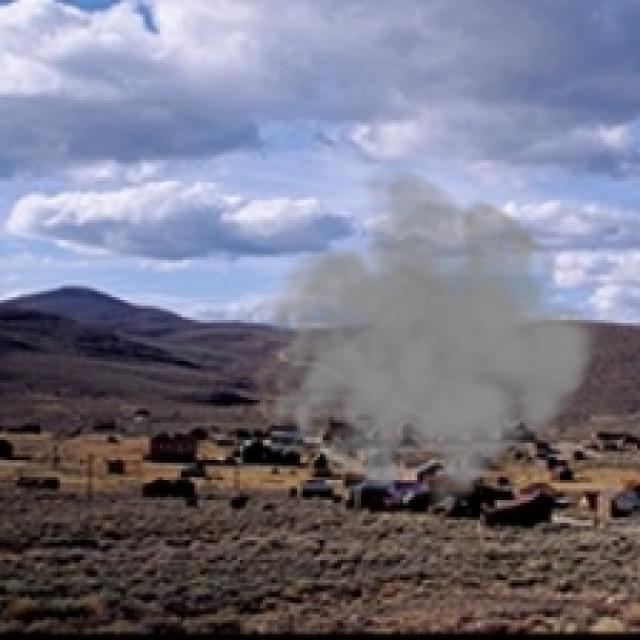smoke: (248, 163, 603, 523)
